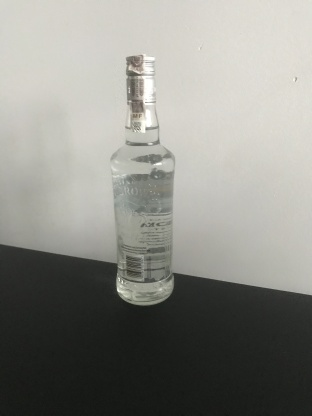nakretka: (124, 53, 158, 105)
